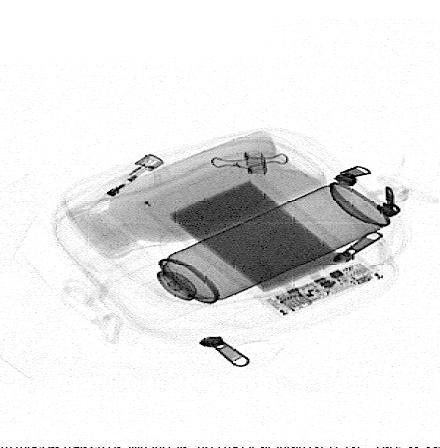Lighter: (68, 153, 166, 214)
Powerbank: (136, 160, 385, 318)
Sprayer: (115, 181, 391, 325)
